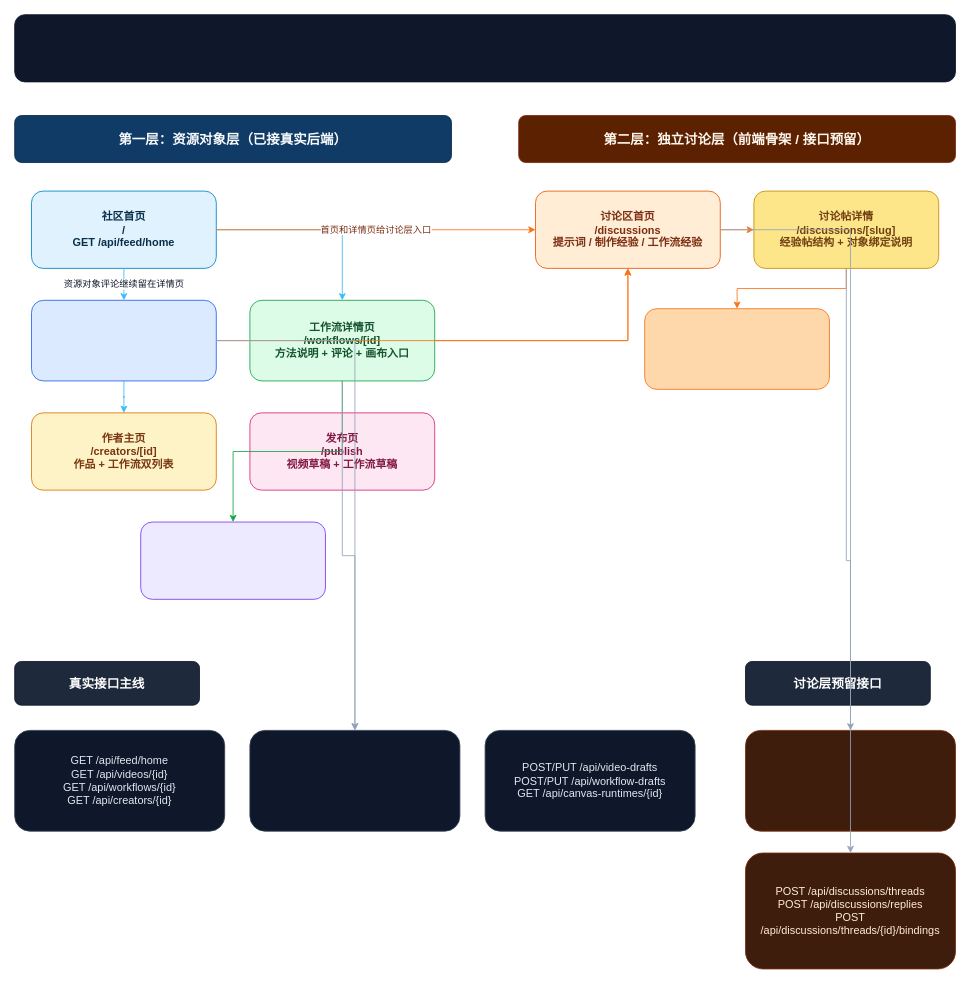
Image size: 970x984. Some labels were removed from this diagram. The box of each missing label's shape, as (x1, y1, x2, y2) in pixels:
DramaTV 资源层与讨论层对接图 先稳住真实资源主线，再把独立讨论层挂上去: (14, 14, 956, 82)
GET /api/comments POST /api/comments POST/DELETE /api/interactions/*: (249, 730, 460, 831)
GET /api/discussions/home GET /api/discussions/threads/{slug}: (745, 730, 956, 831)
发帖 / 回帖 / 排序 / 搜索 当前先留接口位 不伪装成已可用: (644, 308, 830, 389)
画布运行态 /canvas/[runtimeId] runtime + snapshot: (140, 521, 326, 599)
视频详情页 /videos/[id] 详情 + 评论 + 点赞/收藏: (31, 299, 216, 381)
